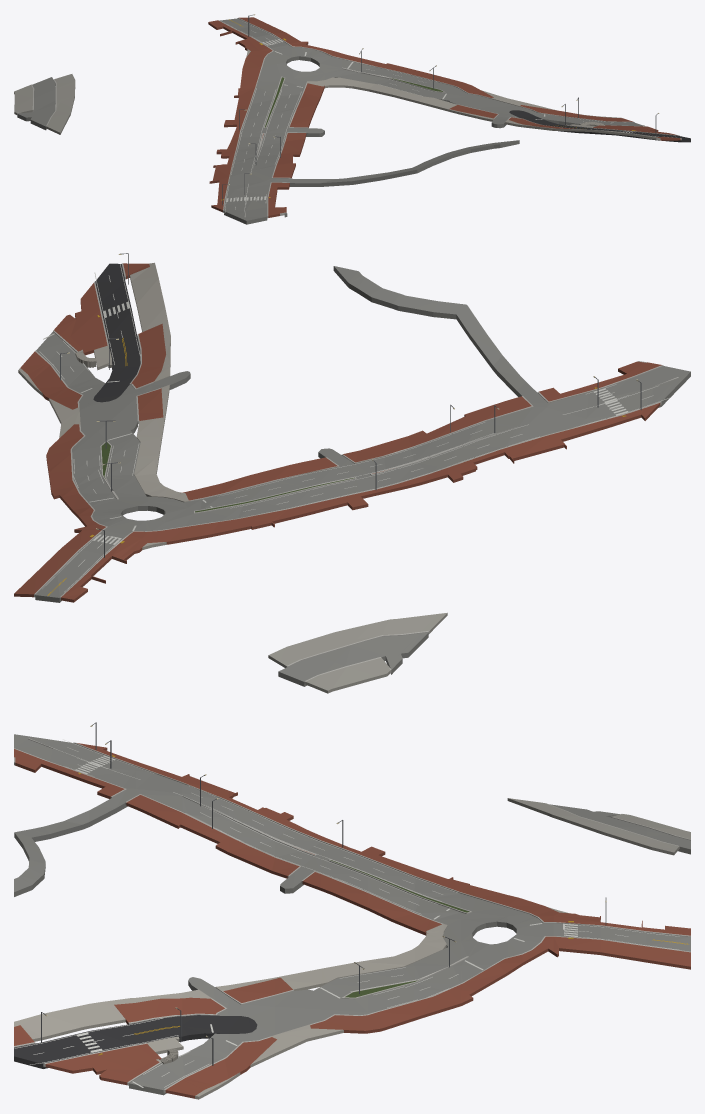
3 views of the same model, one above another, from view 1: azimuth 30°, elevation 25°; view 2: azimuth 150°, elevation 25°; view 3: azimuth 270°, elevation 25° (orthographic). The views are drawn at different scales.
Bounding box in the file's own units: 150 × 25.15 × 146.
